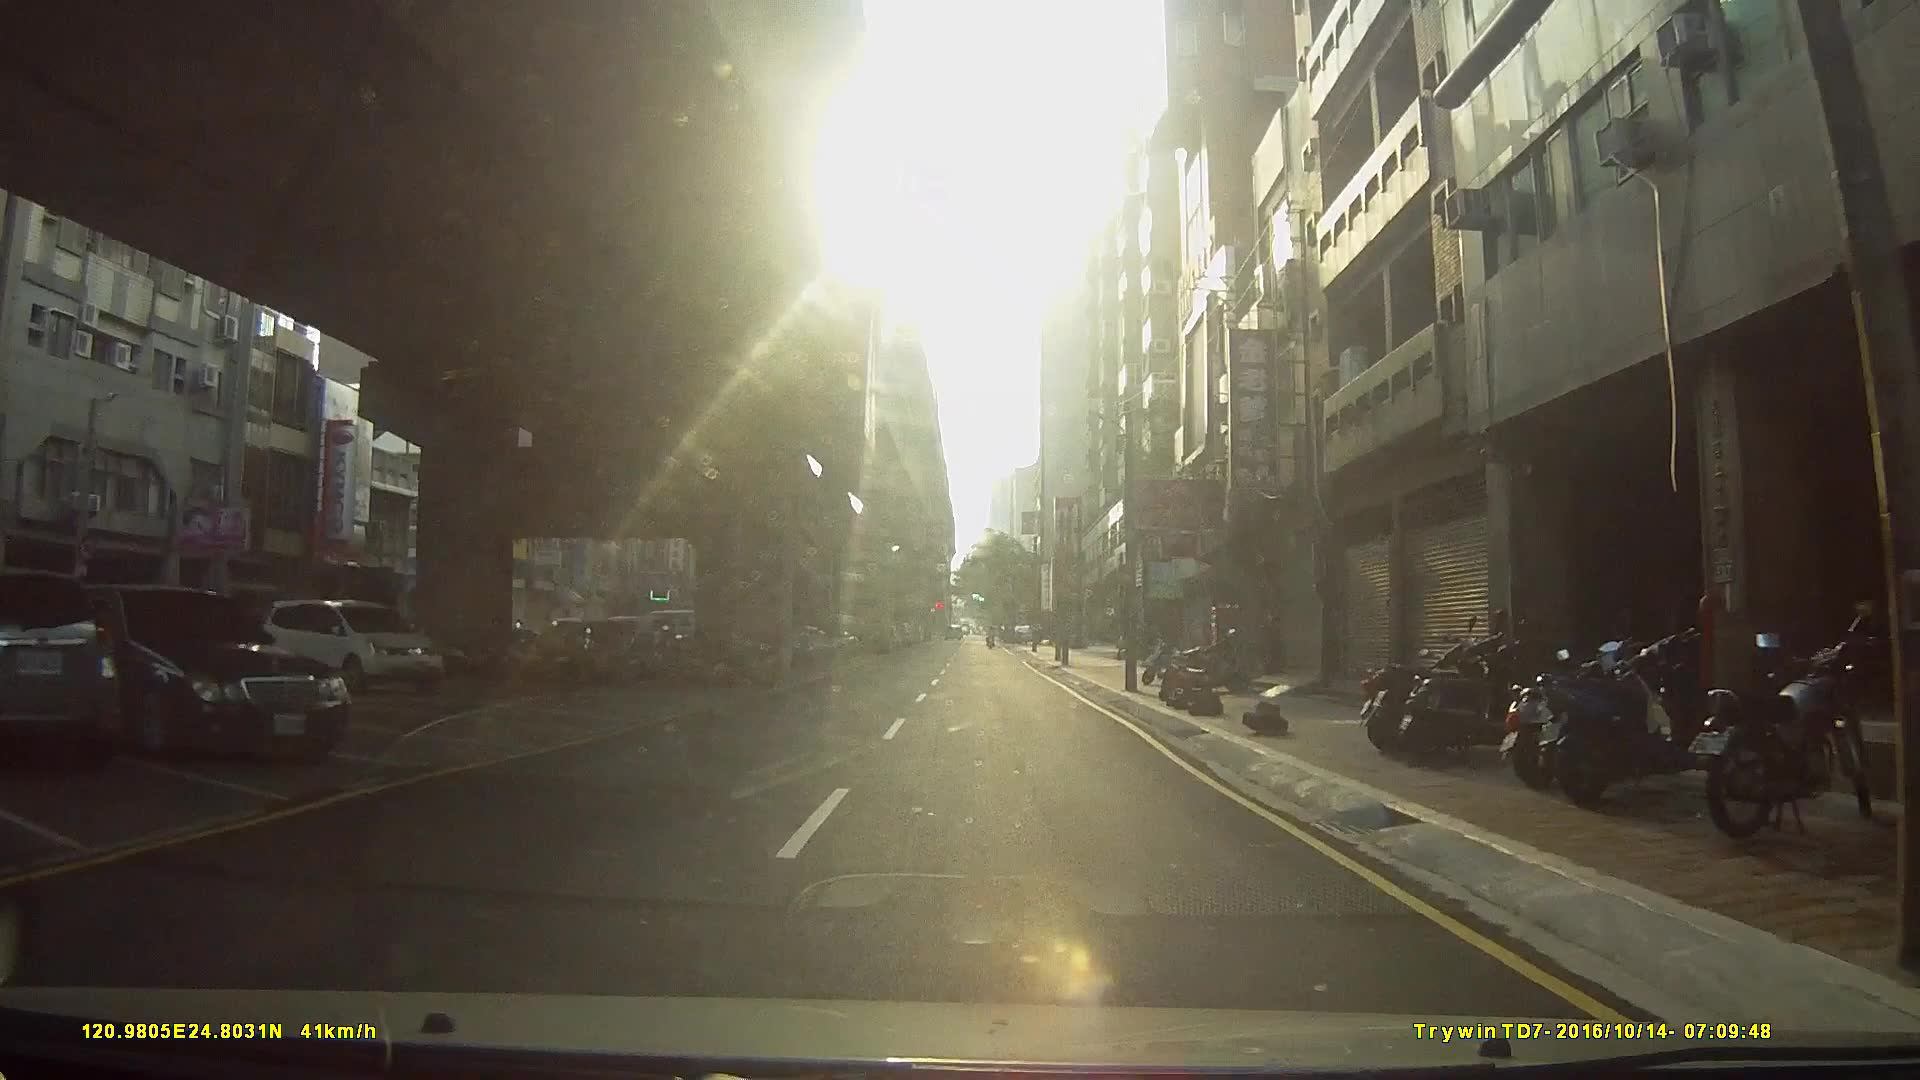vehicle: (41, 582, 352, 760), (3, 570, 115, 775), (258, 599, 440, 691)
